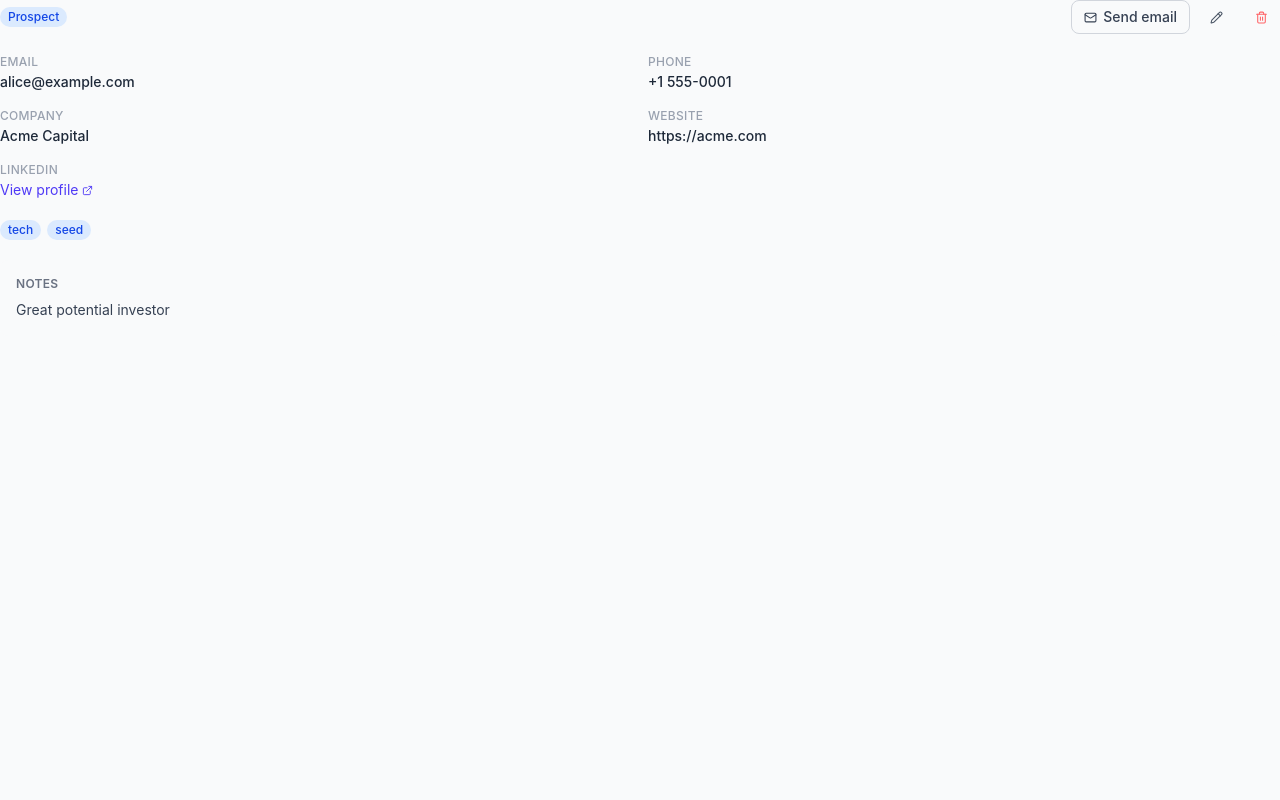
Test: InvestorDetail › opens edit investor modal when pencil button is clicked
The image size is (1280, 800).
Check: the button "Send email" is shown, box x1=1071 y1=0 x2=1190 y2=34
Click the 2nd button at (1216, 17), box x1=1198 y1=0 x2=1235 y2=34
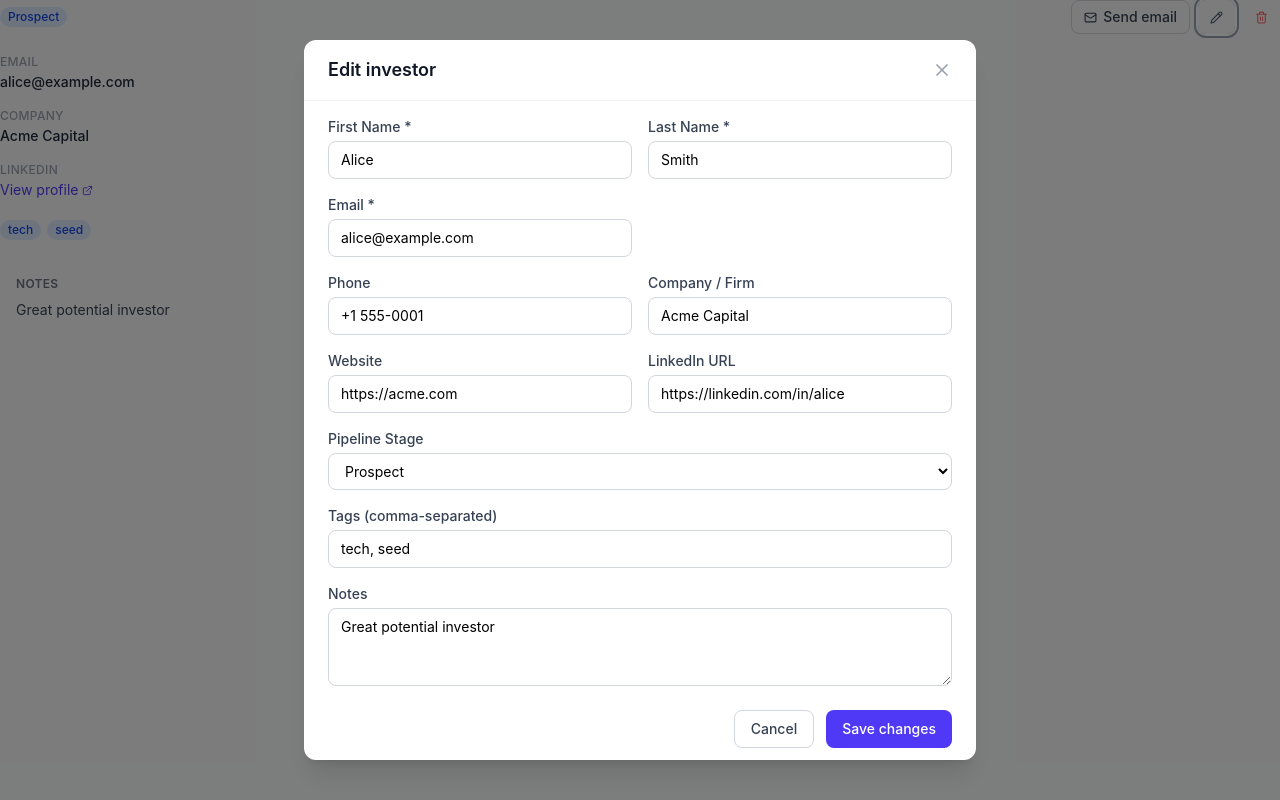
Check: the heading "Edit investor" is shown, box x1=328 y1=56 x2=436 y2=84
